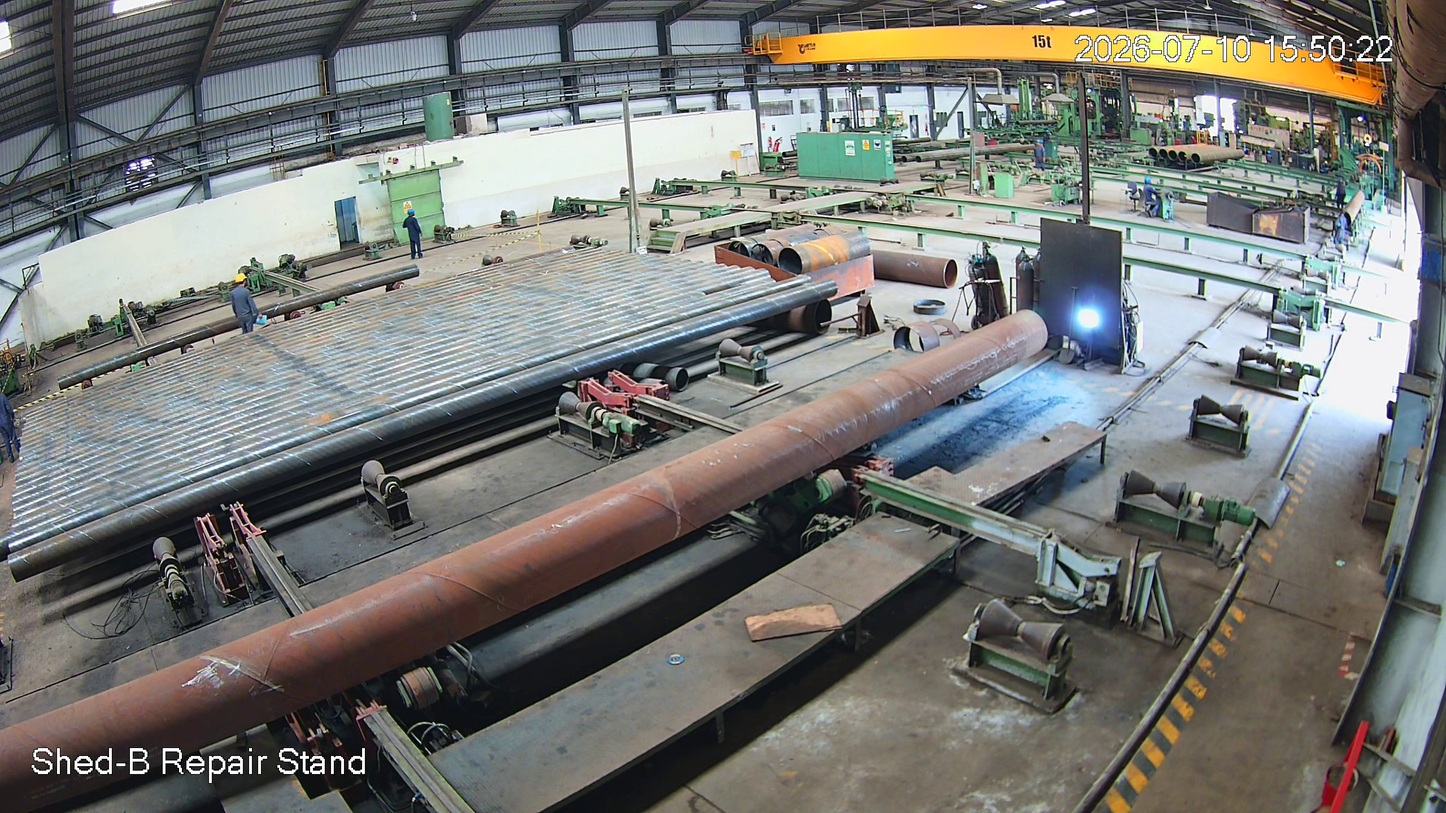Helmet: (234, 273, 255, 294), (404, 204, 419, 220)
Person: (229, 274, 262, 335), (403, 207, 433, 263)
